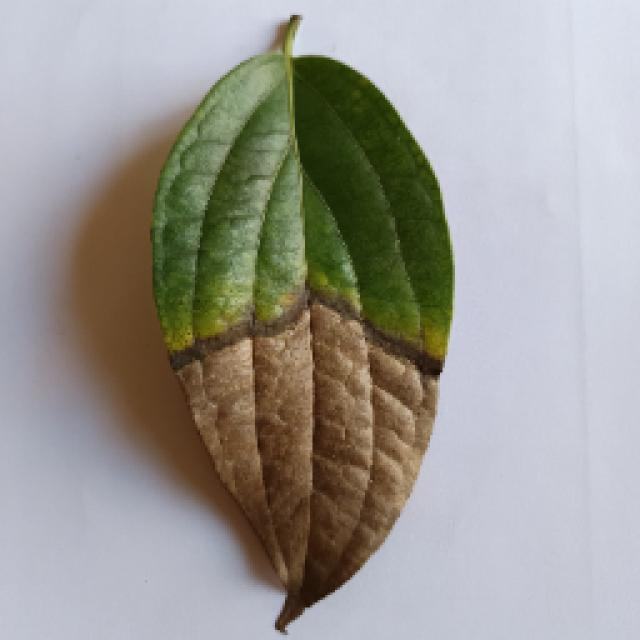footrot: (148, 22, 458, 632)
